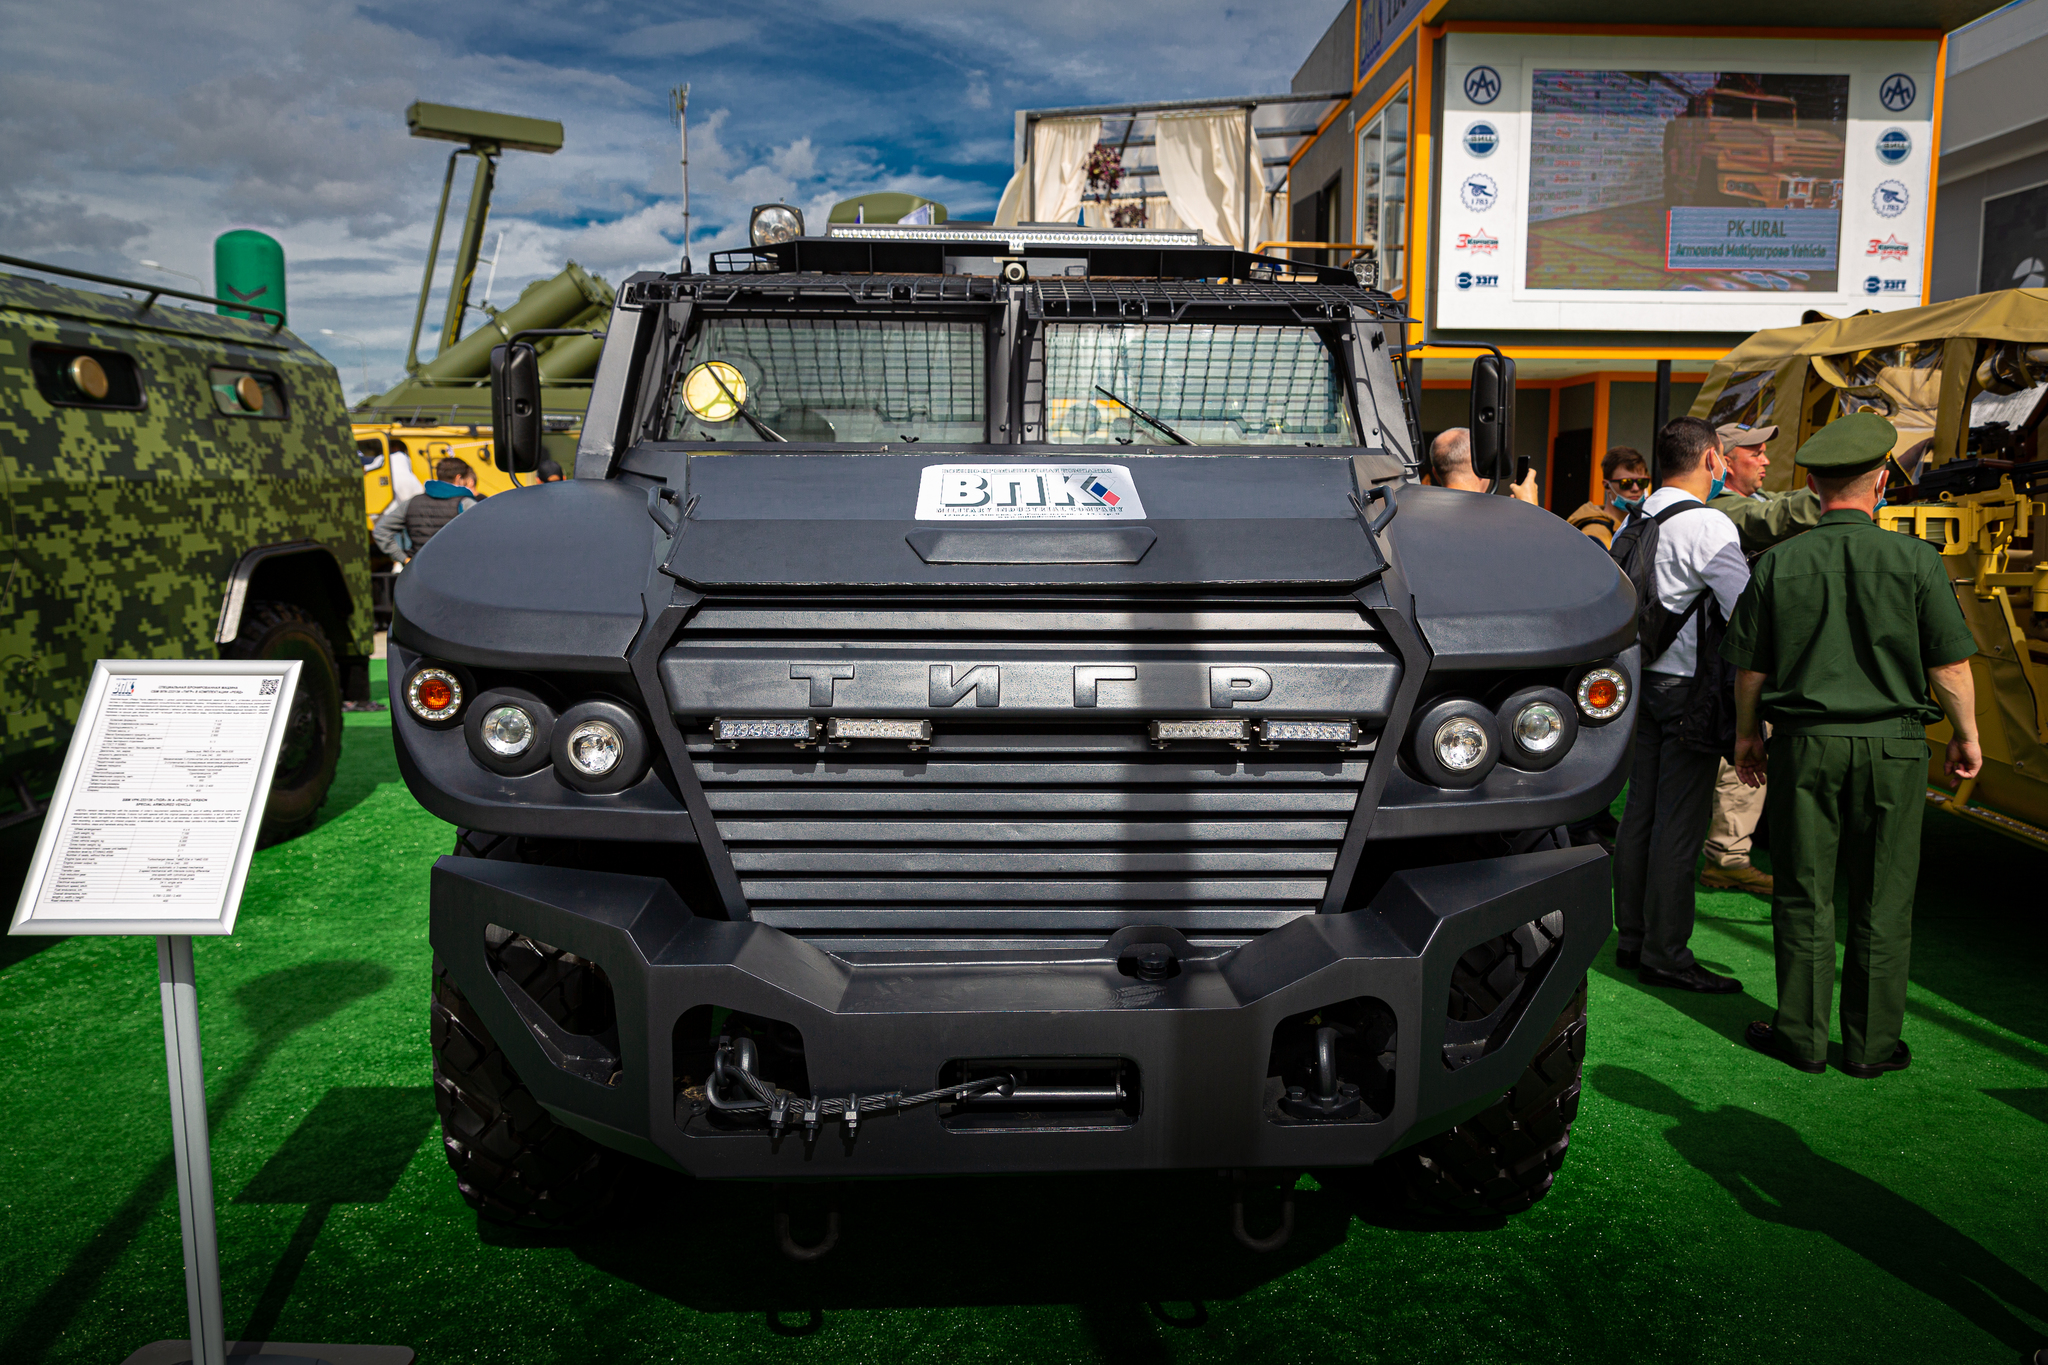btr: (91, 431, 2004, 1315)
